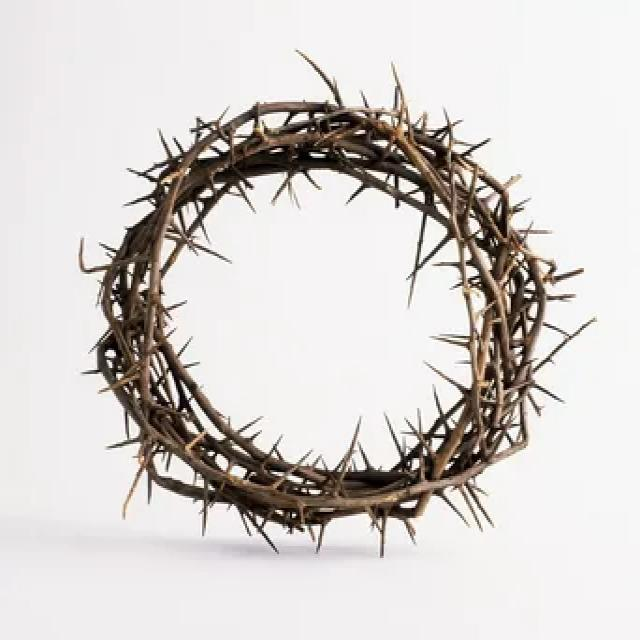crown: (77, 54, 554, 558)
